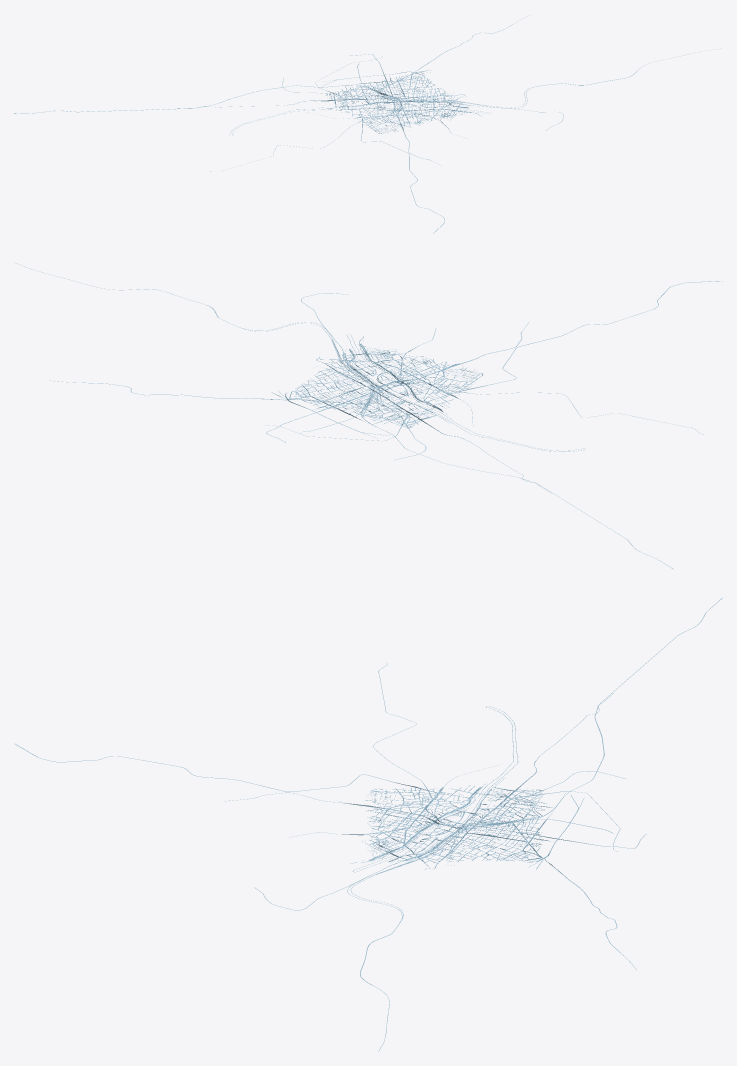
File: roads.glb
The picture shows the model from 3 angles, top to bottom: view 1: azimuth 30°, elevation 25°; view 2: azimuth 150°, elevation 25°; view 3: azimuth 270°, elevation 25°; orthographic projection. The views are drawn at different scales.
Parts seen in each view (by area): view 1: roads; view 2: roads; view 3: roads.
Part boxes in pixels (box(x1,y1,x2,y2)): roads: box(14, 15, 720, 233); roads: box(14, 262, 722, 569); roads: box(14, 598, 722, 1051).
Size of the model in its own units: 15461 by 54.73 by 10204.
